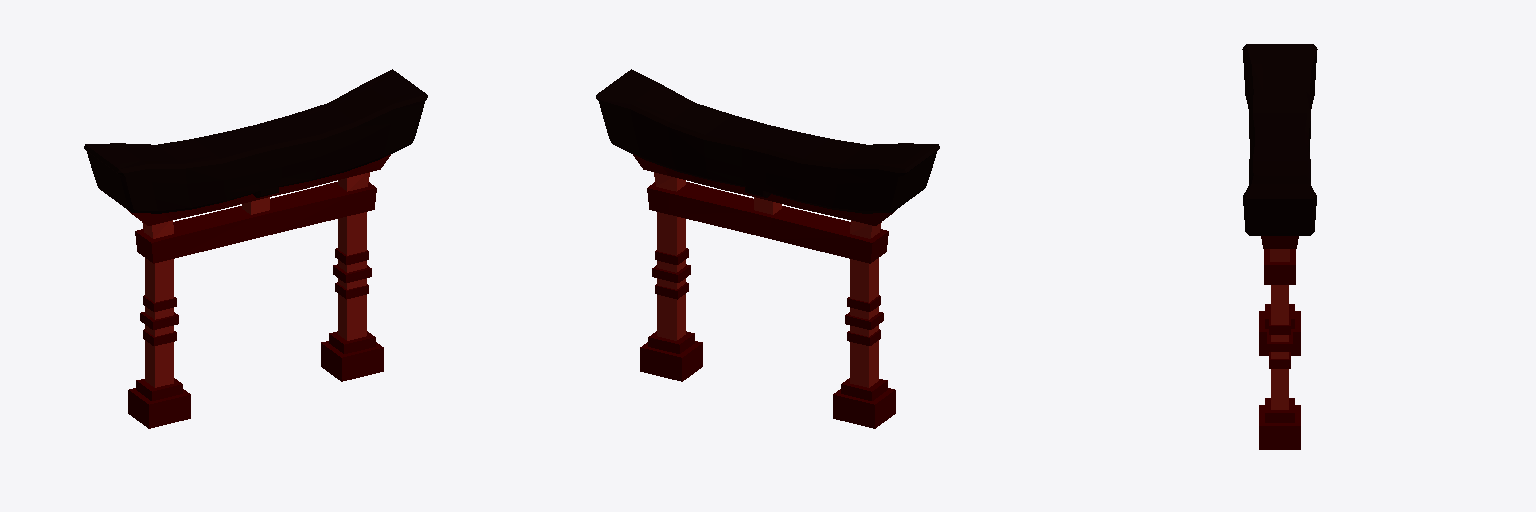
The model's file is ToriiGate.obj.
3 views of the same model, side by side, from view 1: azimuth 30°, elevation 25°; view 2: azimuth 150°, elevation 25°; view 3: azimuth 270°, elevation 25° (orthographic).
Parts seen in each view (by area): view 1: ToriiGate; view 2: ToriiGate; view 3: ToriiGate.
Part boxes in pixels (left/top/right/bottom): ToriiGate: left=84, top=69, right=427, bottom=428; ToriiGate: left=596, top=69, right=939, bottom=428; ToriiGate: left=1242, top=44, right=1317, bottom=449.
Size of the model in its own units: 2.04 by 1.71 by 0.4263.